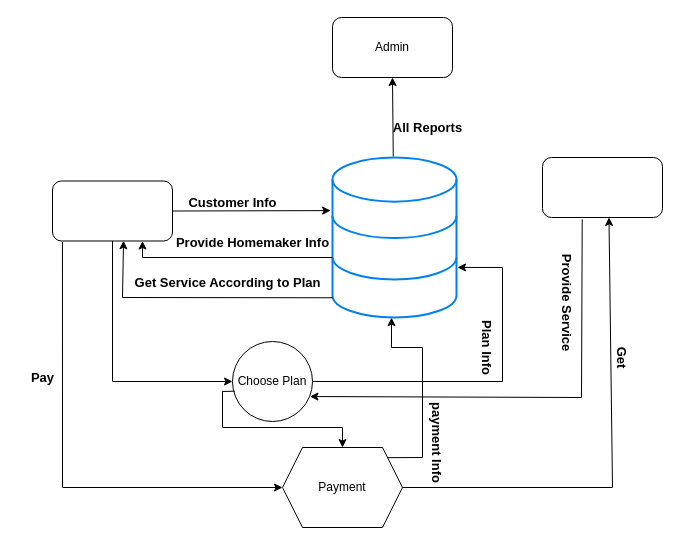
Image size: 680x545. Some labels were removed from this diagram. The shapes that lost their labels are listed below. From the top down, each one's centre as x and y in pixels, then its label:
(x=602, y=187): HomeMaker
(x=112, y=210): Customer
